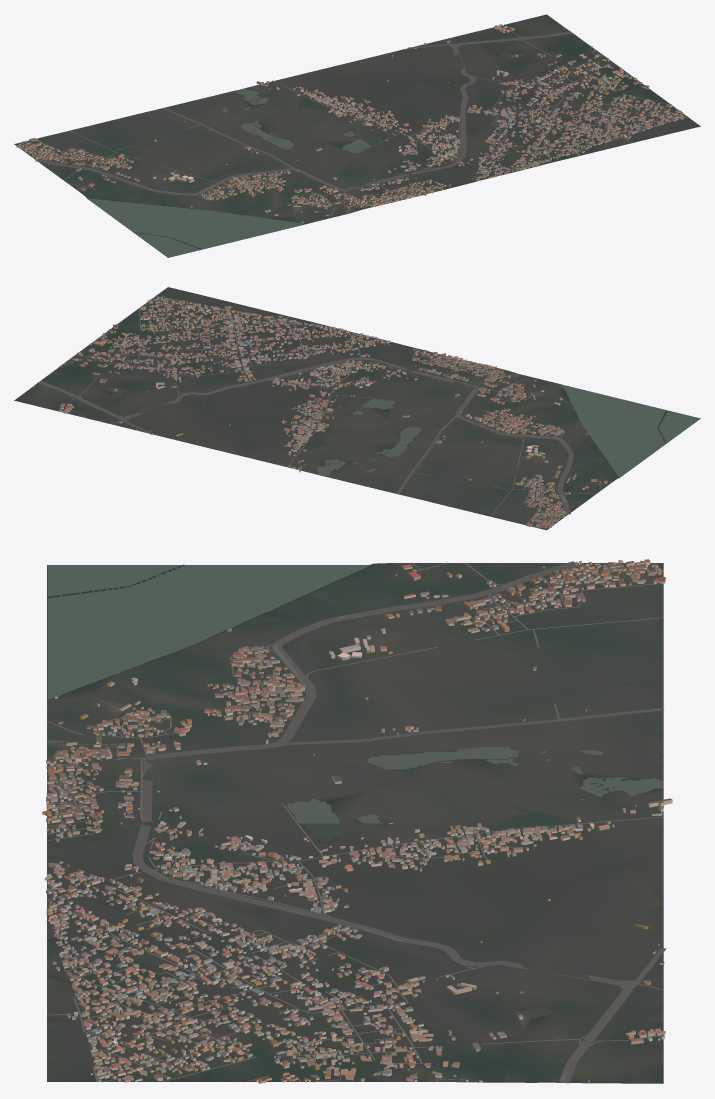
3 views of the same model, one above another, from view 1: azimuth 30°, elevation 25°; view 2: azimuth 150°, elevation 25°; view 3: azimuth 270°, elevation 25° (orthographic). The views are drawn at different scales.
Visible parts, largest first — view 1: ground, buildings, water, roads; view 2: ground, buildings, water, roads; view 3: ground, buildings, water, roads.
Boxes of the visible parts, x1,y1,x2,y2 form: ground: (14, 14, 700, 257); buildings: (16, 24, 688, 222); water: (88, 51, 512, 257); roads: (23, 29, 688, 218); ground: (14, 287, 700, 530); buildings: (33, 295, 607, 528); water: (112, 374, 700, 476); roads: (37, 296, 619, 527); ground: (47, 563, 663, 1083); buildings: (42, 559, 672, 1083); water: (47, 564, 663, 1017); roads: (46, 561, 665, 1083).
Size of the model in its own units: 2816 by 20.28 by 1432.
